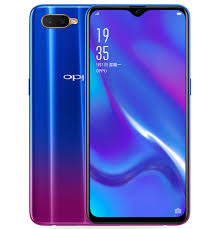oppo: (84, 1, 190, 226), (26, 2, 90, 227)
